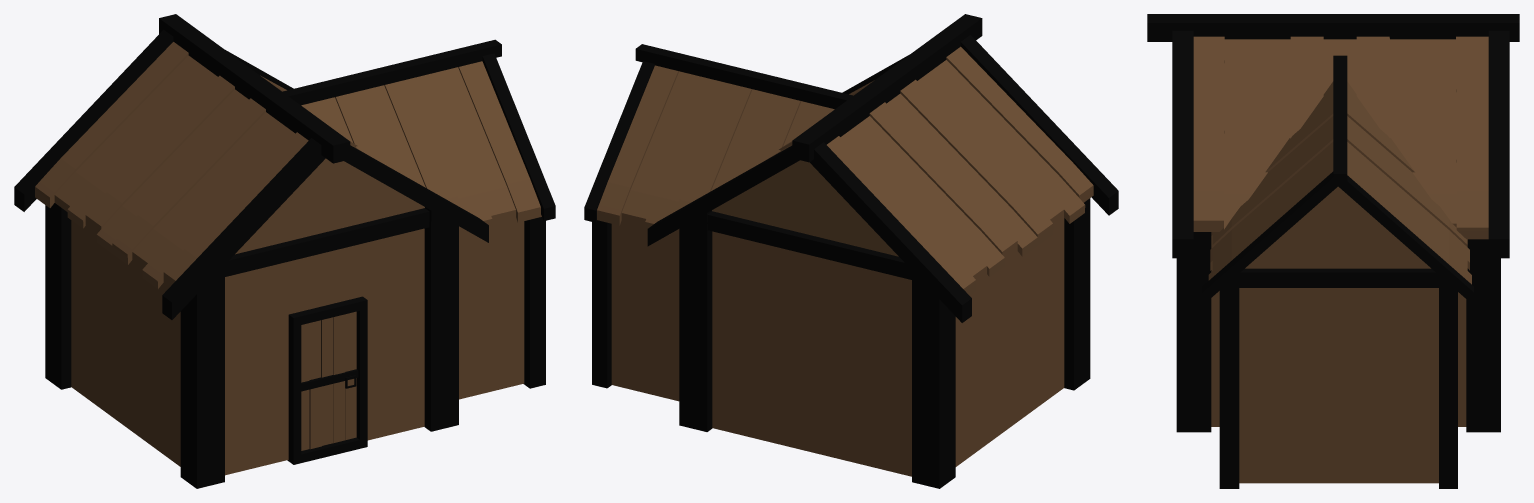
File: 01_res_small_var1.fbx
3 views of the same model, side by side, from view 1: azimuth 30°, elevation 25°; view 2: azimuth 150°, elevation 25°; view 3: azimuth 270°, elevation 25° (orthographic). The views are drawn at different scales.
Parts seen in each view (by area): view 1: Cube.033; view 2: Cube.033; view 3: Cube.033.
Boxes of the visible parts, left/top/right/bottom form: Cube.033: left=14, top=14, right=555, bottom=488; Cube.033: left=584, top=14, right=1118, bottom=488; Cube.033: left=1147, top=14, right=1519, bottom=488.
Bounding box in the file's own units: 61.44 × 47.05 × 45.77.
